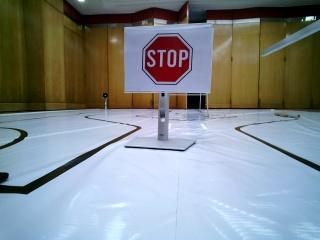stop: (134, 28, 206, 90)
